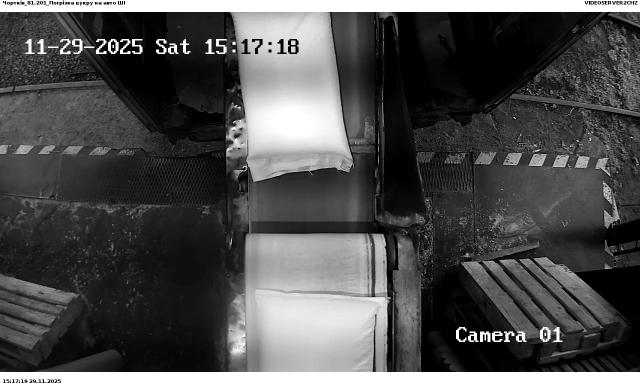bag: (229, 12, 353, 182), (256, 290, 386, 373)
